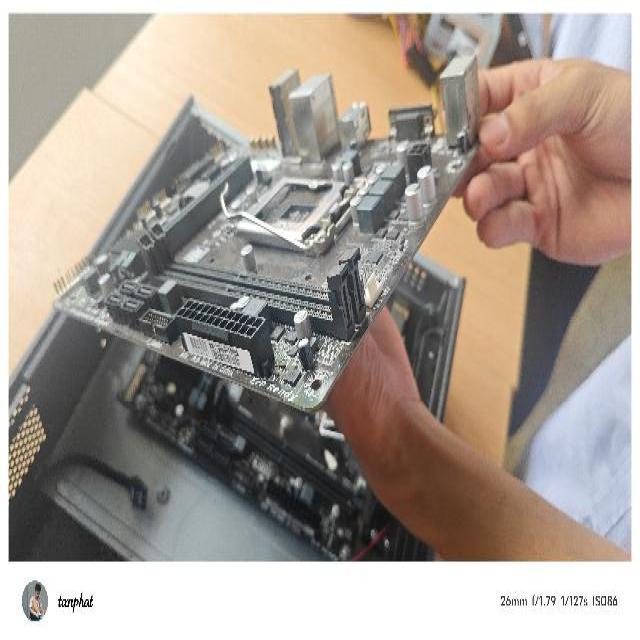Mainboard: (44, 48, 489, 420)
